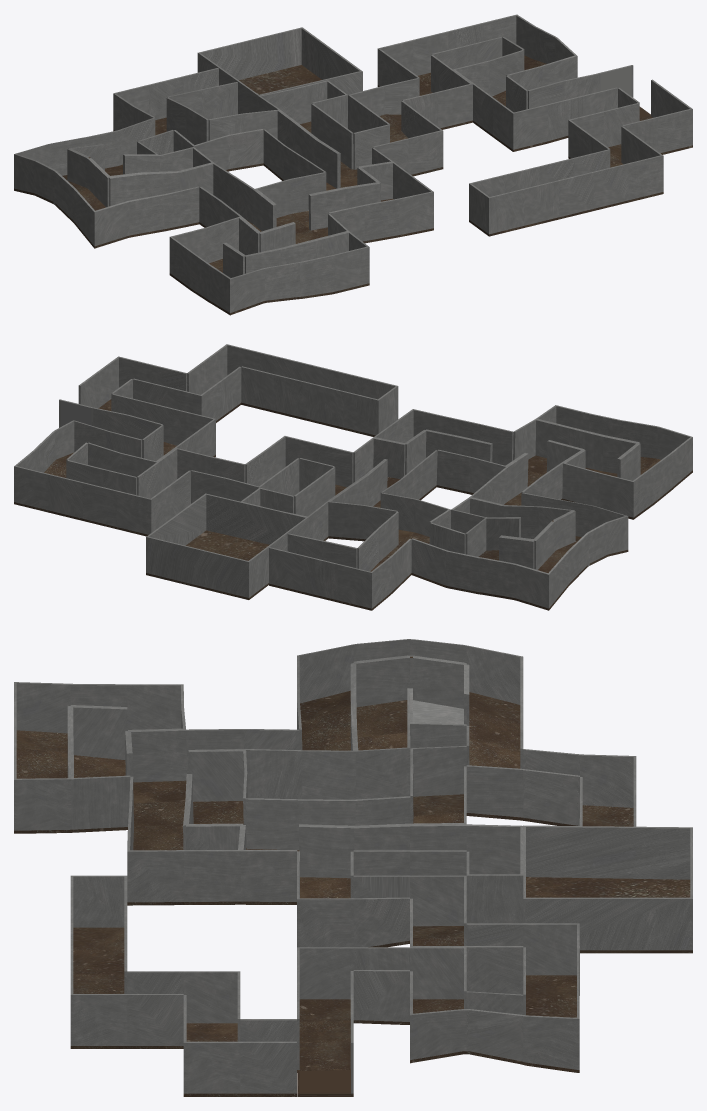
Rendered from map-south.dae.
The picture shows the model from 3 angles, top to bottom: view 1: azimuth 30°, elevation 25°; view 2: azimuth 150°, elevation 25°; view 3: azimuth 270°, elevation 25°; orthographic projection. The views are drawn at different scales.
Visible parts, largest first — view 1: Dead End.005; view 2: Dead End.005; view 3: Dead End.005.
Part boxes in pixels (<box>): Dead End.005: <box>14,14,692,315</box>; Dead End.005: <box>14,344,692,610</box>; Dead End.005: <box>14,639,692,1096</box>.
Size of the model in its own units: 38.4 by 28.8 by 3.81.
Materials: 2 (2 with a texture image).
